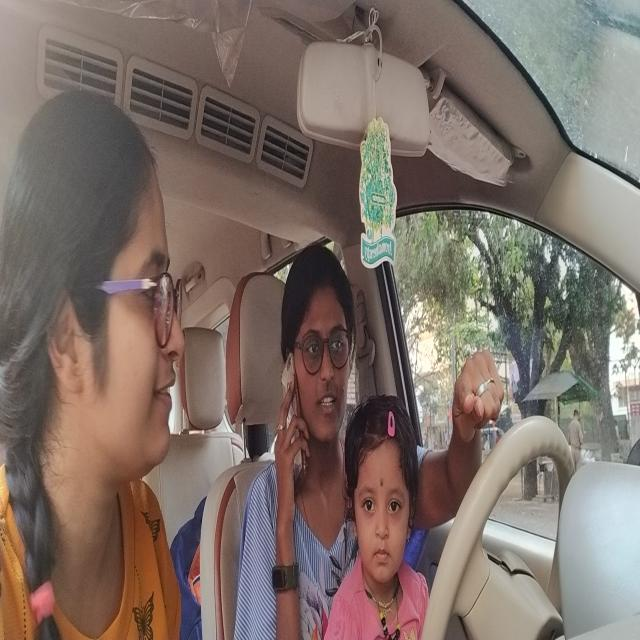child: (344, 396, 413, 584)
mobile: (278, 358, 306, 489)
person: (55, 98, 182, 464), (281, 251, 349, 428)
